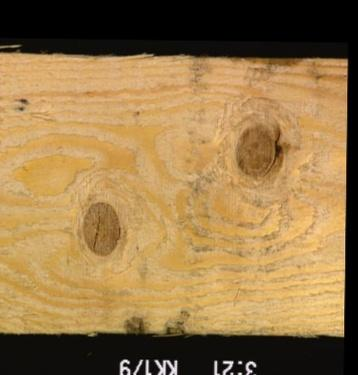dry_knot: (229, 117, 282, 183)
sound_knot: (79, 198, 123, 256)
wave: (259, 56, 301, 72)
